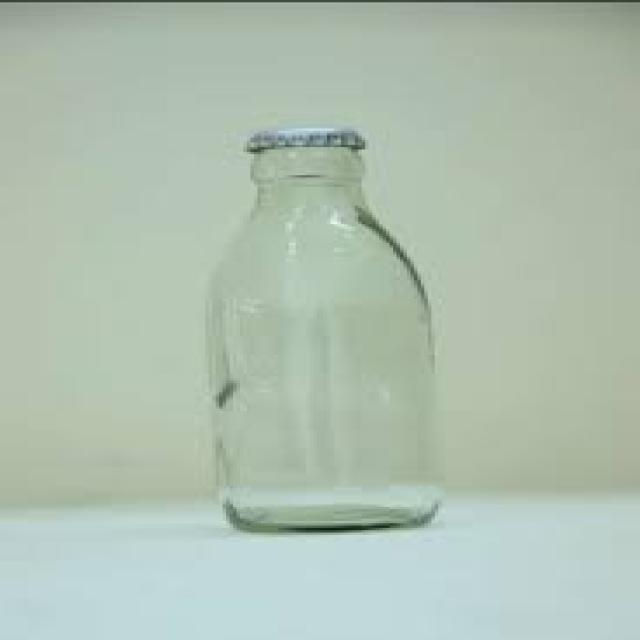glass: (205, 147, 435, 528)
metal: (240, 126, 362, 147)
